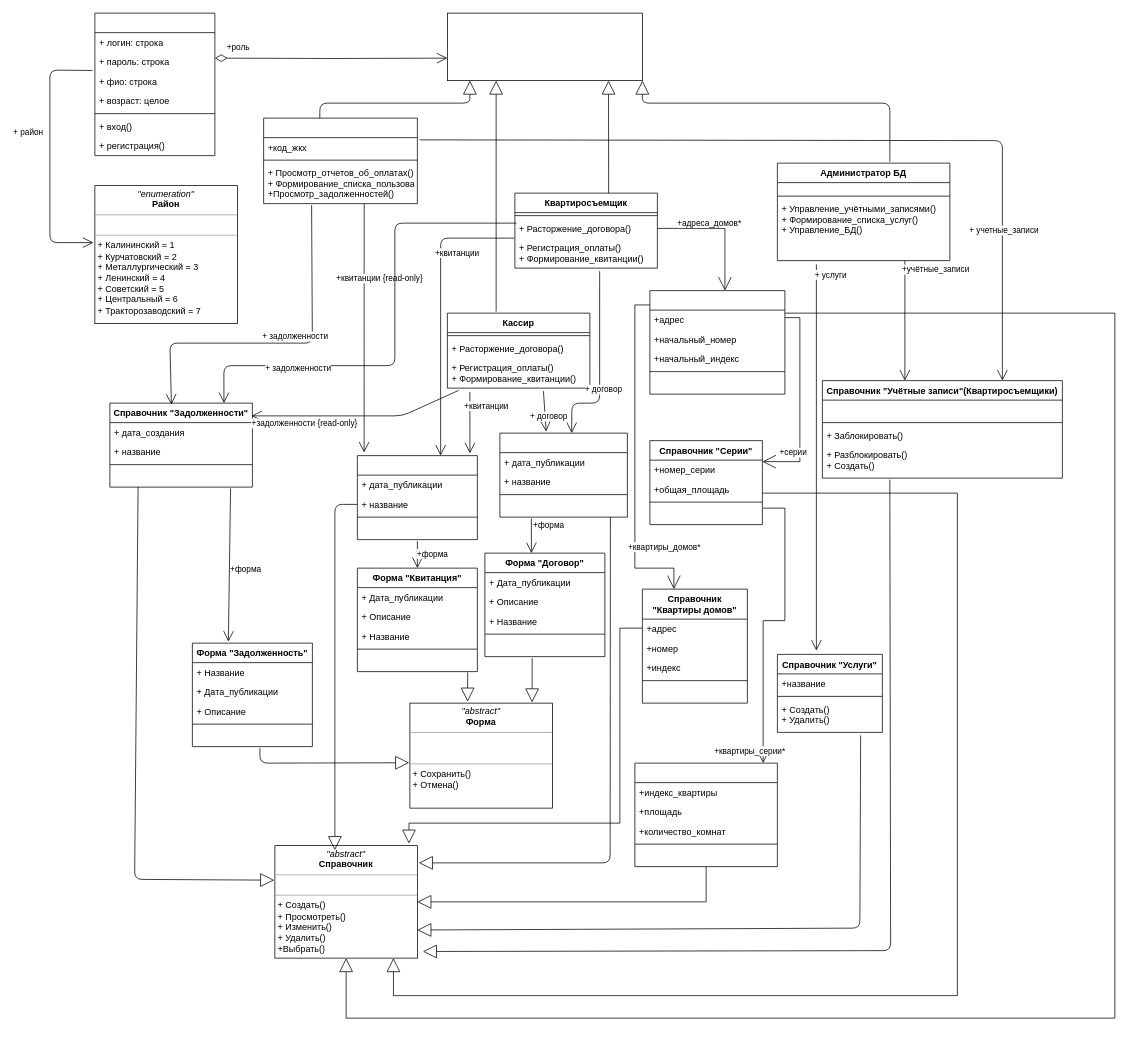
Image size: 1142x1045. Some labels were removed from this diagram. The shapes that lost their labels are listed below. From the top down, each one's box as (x1, y1, x2, y2) in pixels, then its label:
(447, 12, 642, 81): "abstract" Роль + выход()
(94, 12, 215, 156): Пользователь
(263, 117, 417, 204): Директор
(649, 290, 785, 394): Справочник "Адреса домов"
(499, 432, 627, 517): Справочник "Договоры"
(357, 455, 477, 540): Справочник "Квитанции"
(634, 762, 777, 867): Справочник "Квартиры серии"
